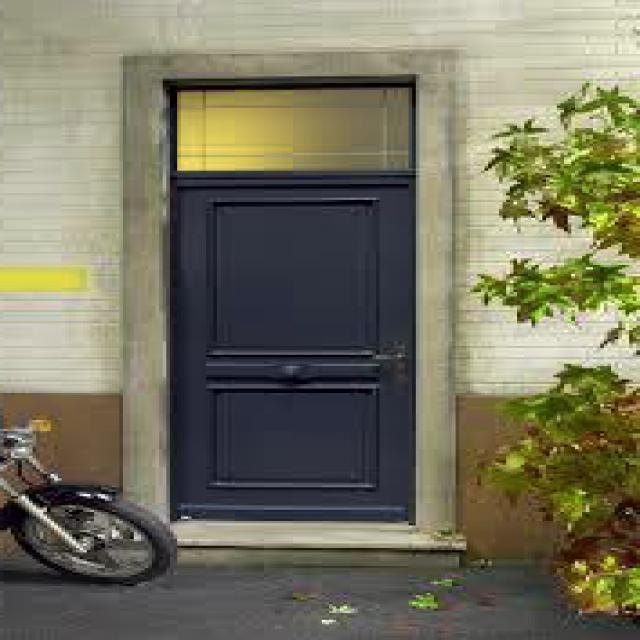door: (170, 174, 415, 522)
